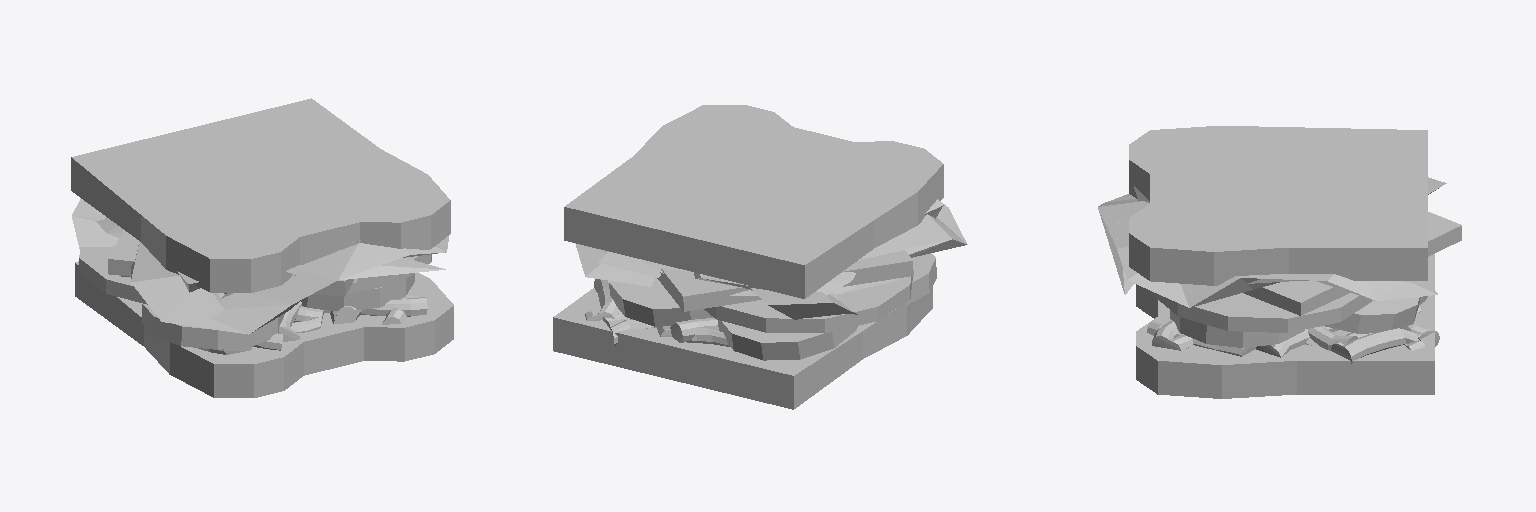
The model's file is sandwich.obj.
3 views of the same model, side by side, from view 1: azimuth 30°, elevation 25°; view 2: azimuth 150°, elevation 25°; view 3: azimuth 270°, elevation 25° (orthographic).
Parts seen in each view (by area): view 1: group[number redacted], group[number redacted], group[number redacted], group[number redacted], group[number redacted], group[number redacted], group[number redacted], group[number redacted]; view 2: group[number redacted], group[number redacted], group[number redacted], group[number redacted], group[number redacted], group[number redacted], group[number redacted], group[number redacted]; view 3: group[number redacted], group[number redacted], group[number redacted], group[number redacted], group[number redacted], group[number redacted], group[number redacted].
Boxes of the visible parts, <box> form: group[number redacted]: <box>71,98,450,292</box>; group[number redacted]: <box>75,261,453,397</box>; group[number redacted]: <box>72,199,448,334</box>; group[number redacted]: <box>141,303,284,349</box>; group[number redacted]: <box>79,247,147,304</box>; group[number redacted]: <box>301,274,414,310</box>; group[number redacted]: <box>108,230,353,296</box>; group[number redacted]: <box>346,254,431,294</box>; group[number redacted]: <box>564,105,943,298</box>; group[number redacted]: <box>553,279,932,409</box>; group[number redacted]: <box>575,199,967,319</box>; group[number redacted]: <box>704,259,912,332</box>; group[number redacted]: <box>657,250,913,311</box>; group[number redacted]: <box>718,320,857,360</box>; group[number redacted]: <box>609,277,713,326</box>; group[number redacted]: <box>898,253,936,307</box>; group[number redacted]: <box>1129,126,1427,285</box>; group[number redacted]: <box>1136,254,1439,398</box>; group[number redacted]: <box>1098,177,1446,307</box>; group[number redacted]: <box>1151,291,1372,332</box>; group[number redacted]: <box>1244,212,1461,315</box>; group[number redacted]: <box>1325,297,1420,333</box>; group[number redacted]: <box>1170,310,1304,347</box>.
Size of the model in its own units: 0.6697 by 0.2964 by 0.6826.